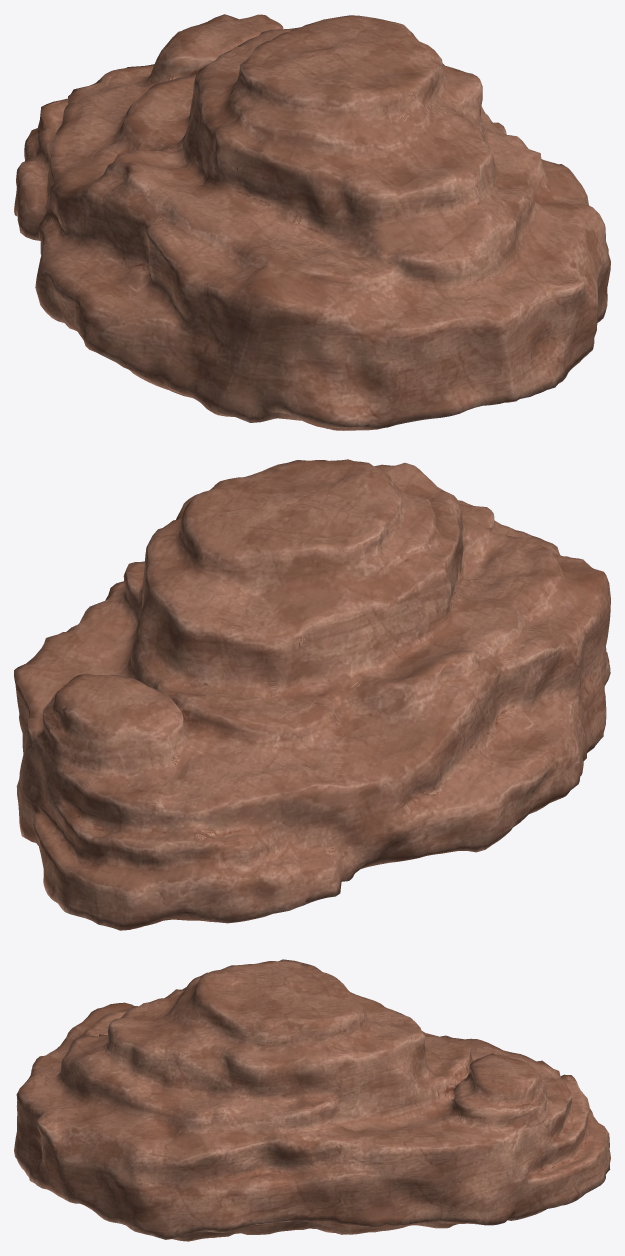
The picture shows the model from 3 angles, top to bottom: view 1: azimuth 30°, elevation 25°; view 2: azimuth 150°, elevation 25°; view 3: azimuth 270°, elevation 25°; orthographic projection. The views are drawn at different scales.
Parts seen in each view (by area): view 1: P11DesertCliff-High_P11DesertCliffM_0; view 2: P11DesertCliff-High_P11DesertCliffM_0; view 3: P11DesertCliff-High_P11DesertCliffM_0.
Boxes of the visible parts, bbox=[...] form: P11DesertCliff-High_P11DesertCliffM_0: bbox=[14, 14, 610, 430]; P11DesertCliff-High_P11DesertCliffM_0: bbox=[14, 459, 610, 930]; P11DesertCliff-High_P11DesertCliffM_0: bbox=[14, 959, 610, 1241].
Size of the model in its own units: 1458 by 856 by 2131.
1 material, 1 textured.
